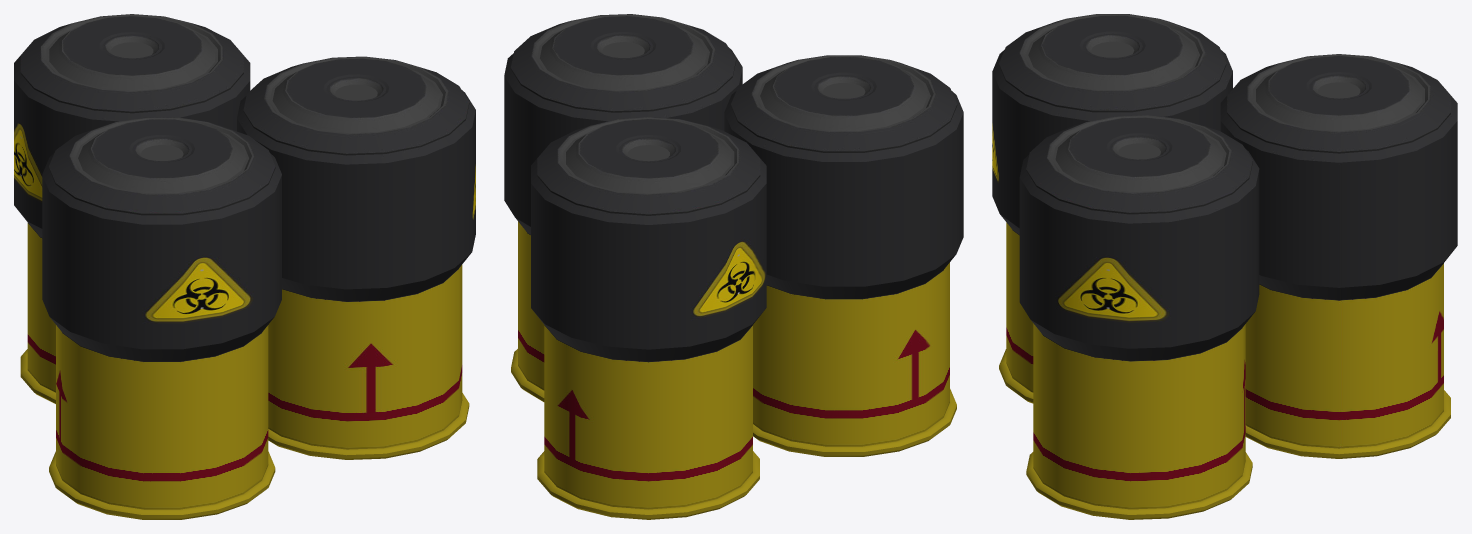
The model's file is Ammo Pick UP (Laser).FBX.
3 renders of one model, left to right at view 1: azimuth 30°, elevation 25°; view 2: azimuth 150°, elevation 25°; view 3: azimuth 270°, elevation 25°, orthographic.
Parts seen in each view (by area): view 1: Cylinder001; view 2: Cylinder001; view 3: Cylinder001.
Part boxes in pixels (x1,y1,x2,y2): Cylinder001: (14, 14, 475, 519); Cylinder001: (504, 14, 963, 519); Cylinder001: (992, 14, 1457, 519).
Size of the model in its own units: 24.93 by 18.74 by 24.22.
Materials: 1 (1 with a texture image).
